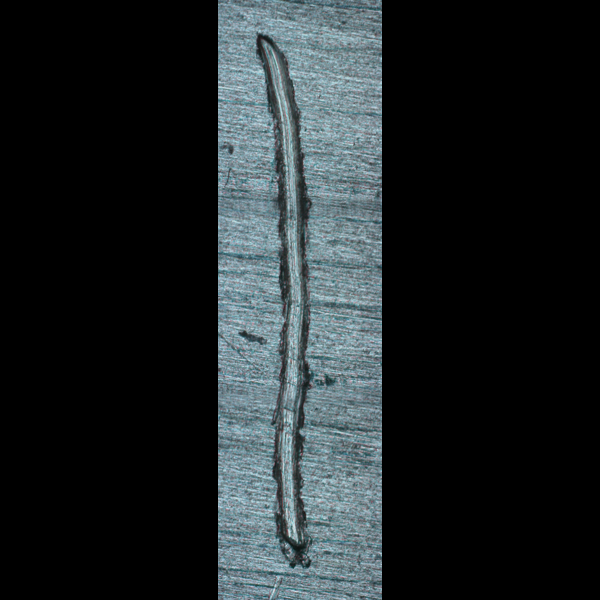d: (250, 30, 326, 575)
